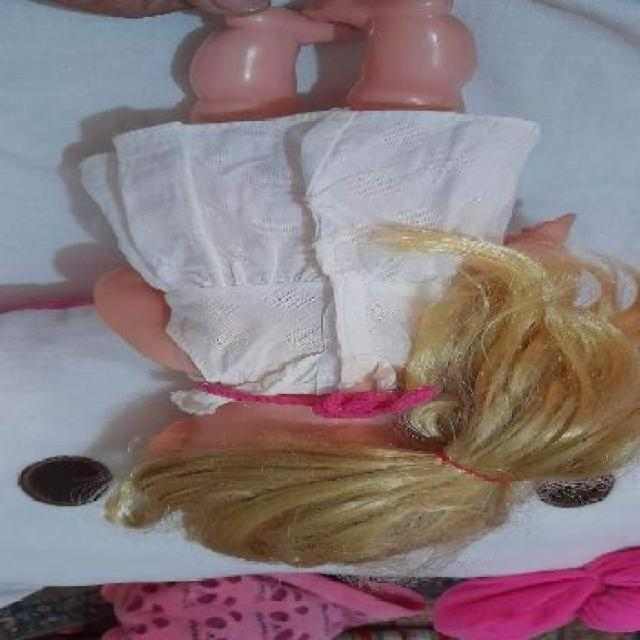non-dog: (13, 2, 640, 576)
